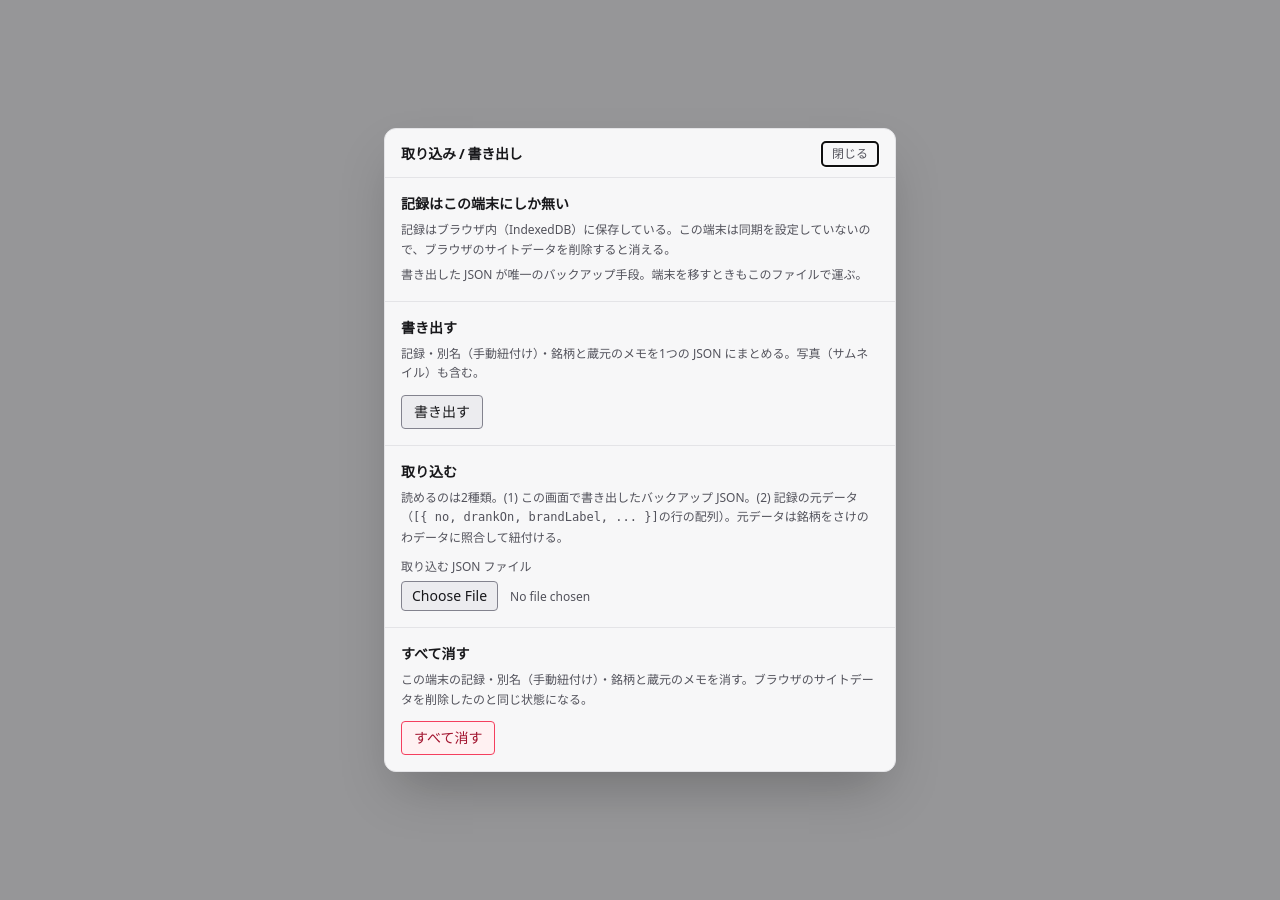
Test case: ImportExportPanel との配線 › 書き出しに失敗したら起点を進めない(督促を消して黙らせない)
Click the button "書き出す": (442, 412) x1=401 y1=394 x2=483 y2=428
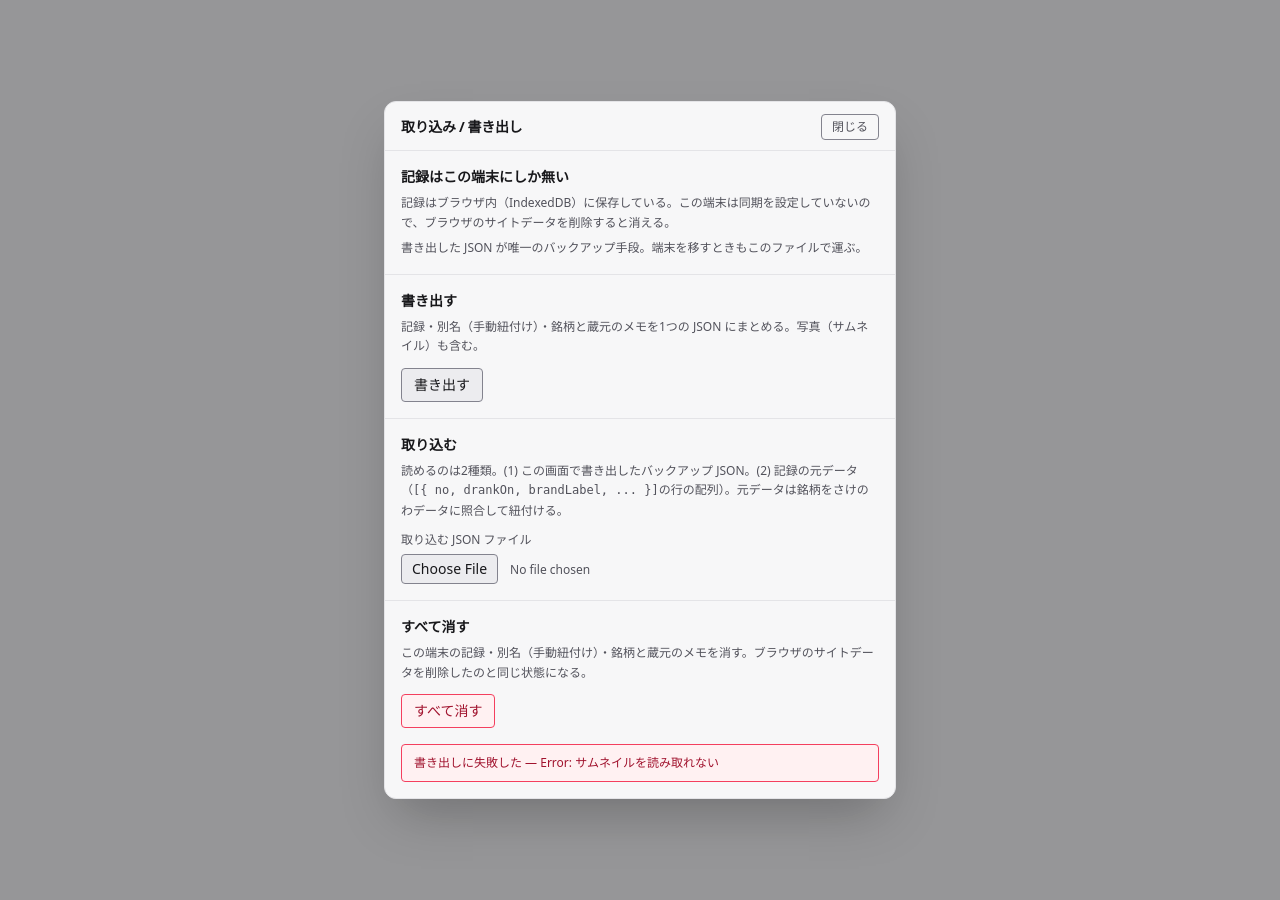
Expected: the message shows "書き出しに失敗した", x1=414 y1=754 x2=719 y2=771
